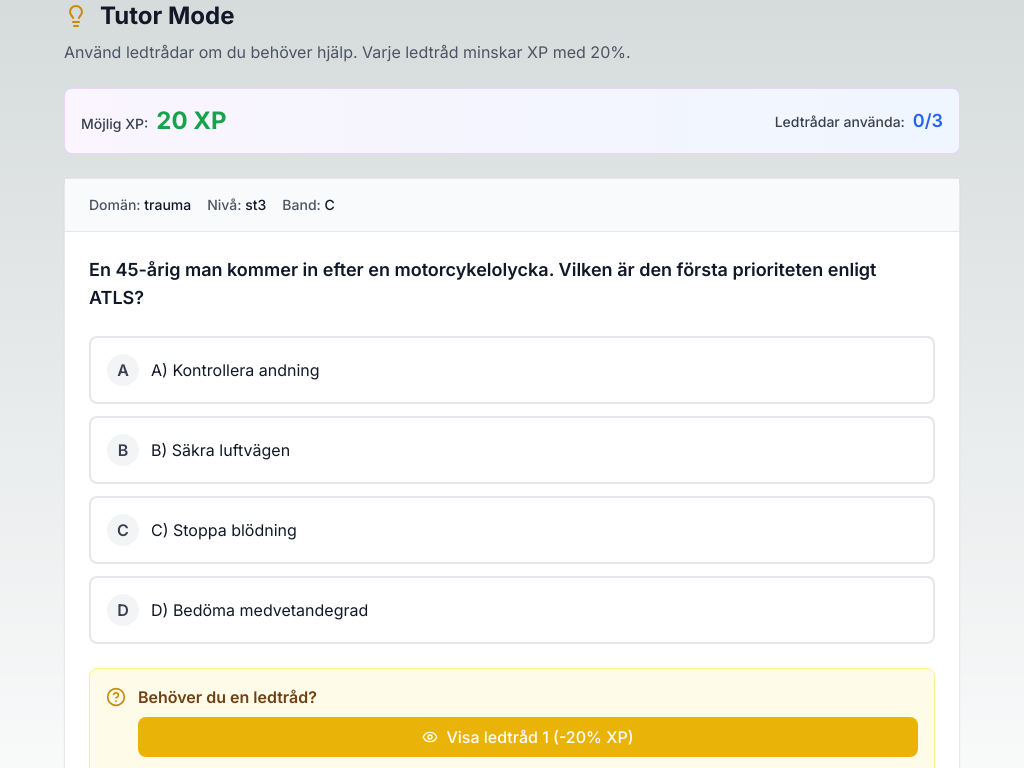
Test: TutorMode › Hint Progression › should reveal first hint when requested
Note: Click hint button
Click the button "Visa ledtråd 1 (-20% XP)".
click(528, 737)  # box [138, 717, 918, 757]
(page scrolled)
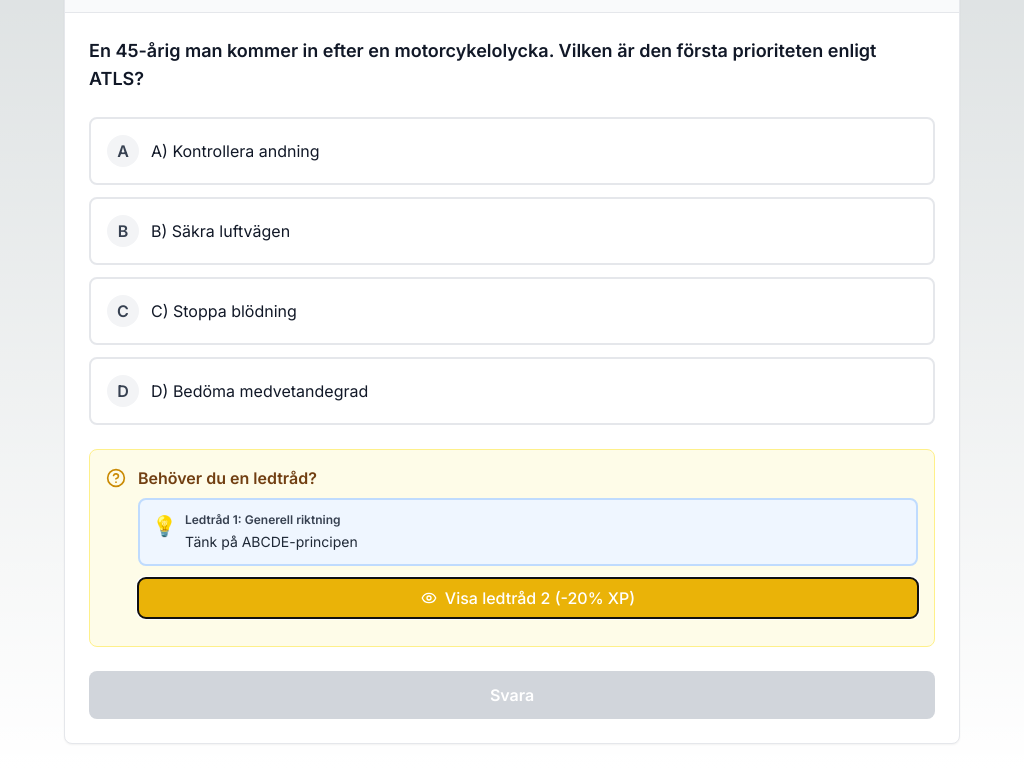
Expected: the text "Tänk på ABCDE-principen" is shown, [185, 533, 358, 550]
